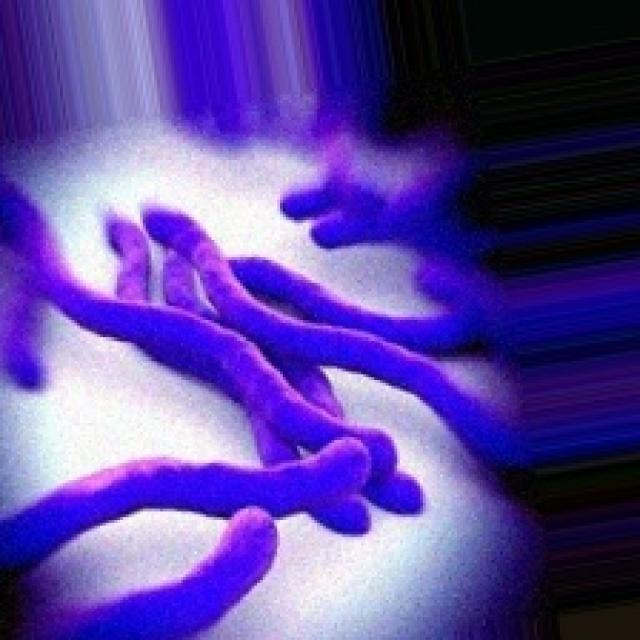Spiral_bacteria: (22, 134, 487, 640)
